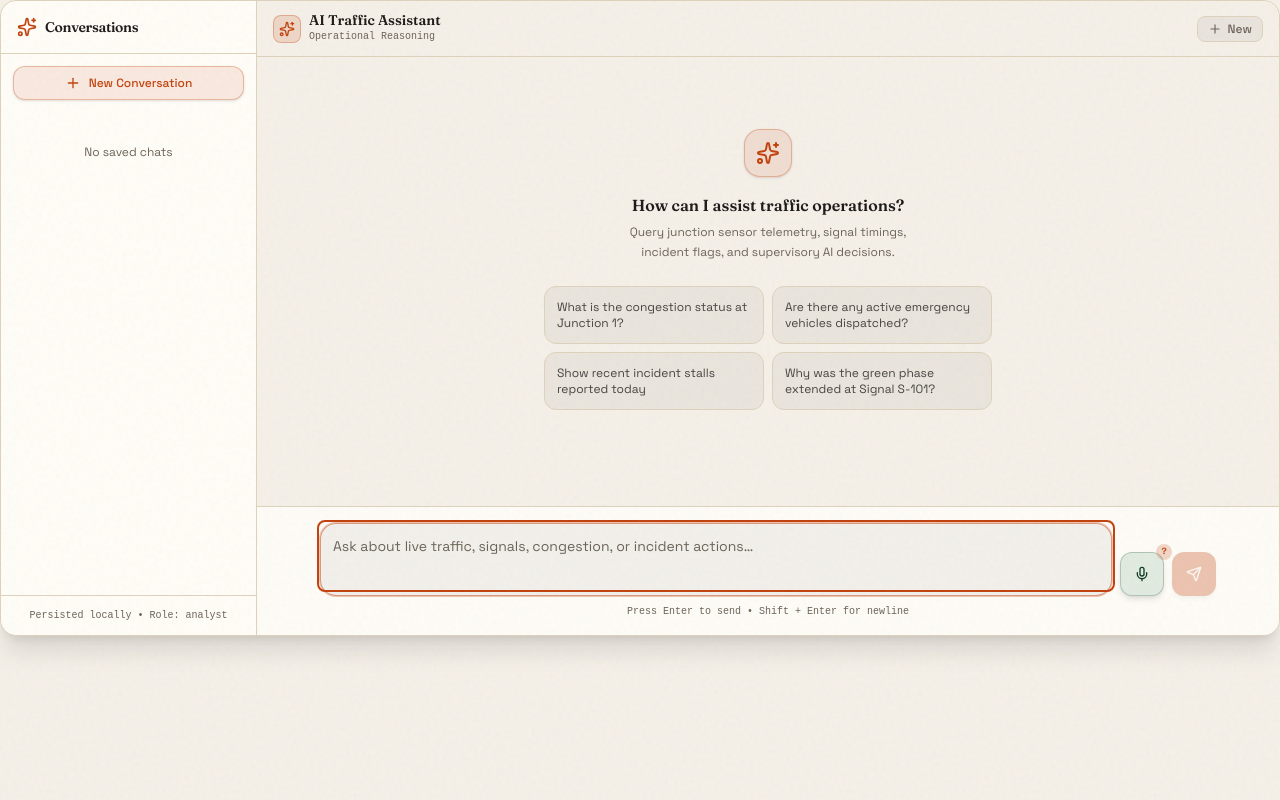
AssistantChat Component (assistant.test.tsx) › handles 500 error state and allows user to retry
Replace the text in the text box with test id "assistant-composer-textarea" with "Check volume" at (716, 556), box [321, 524, 1111, 588]
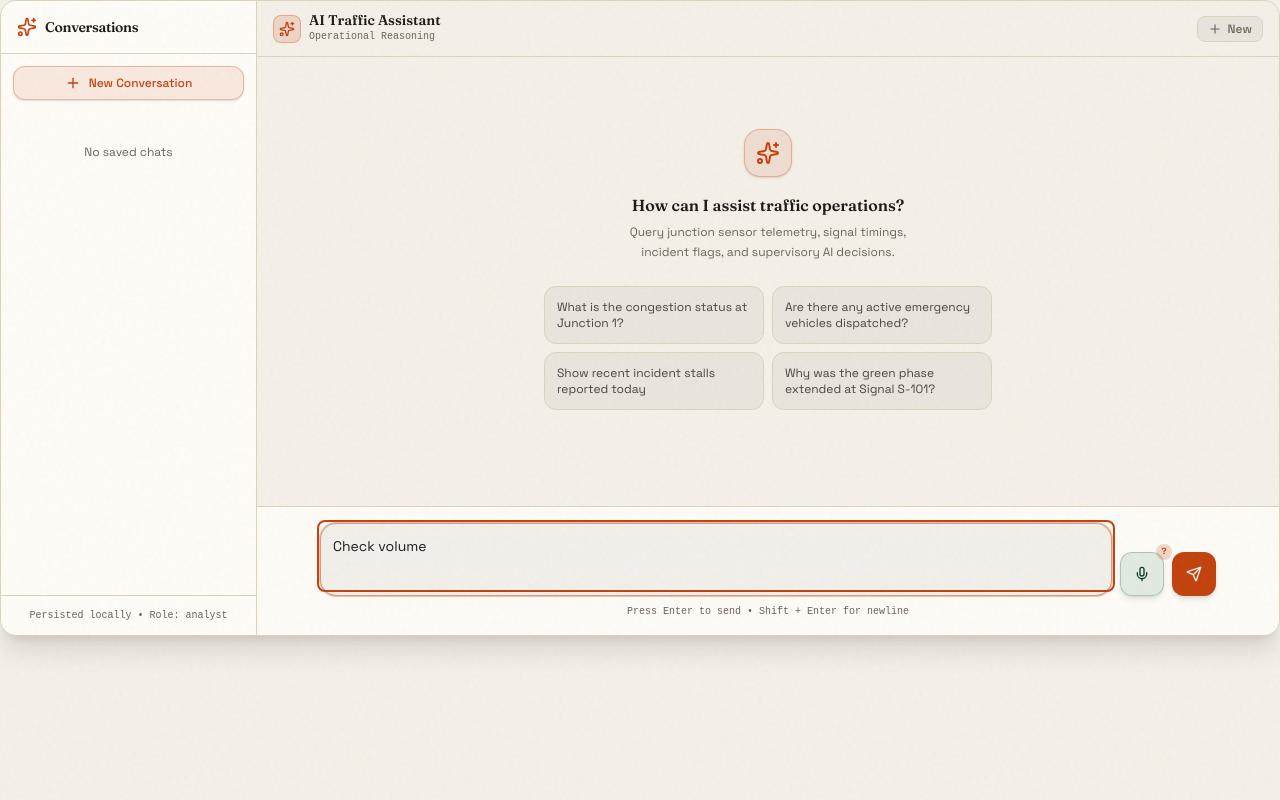
Click the button with test id "assistant-send-button".
click(1194, 574)  # box [1172, 552, 1216, 596]
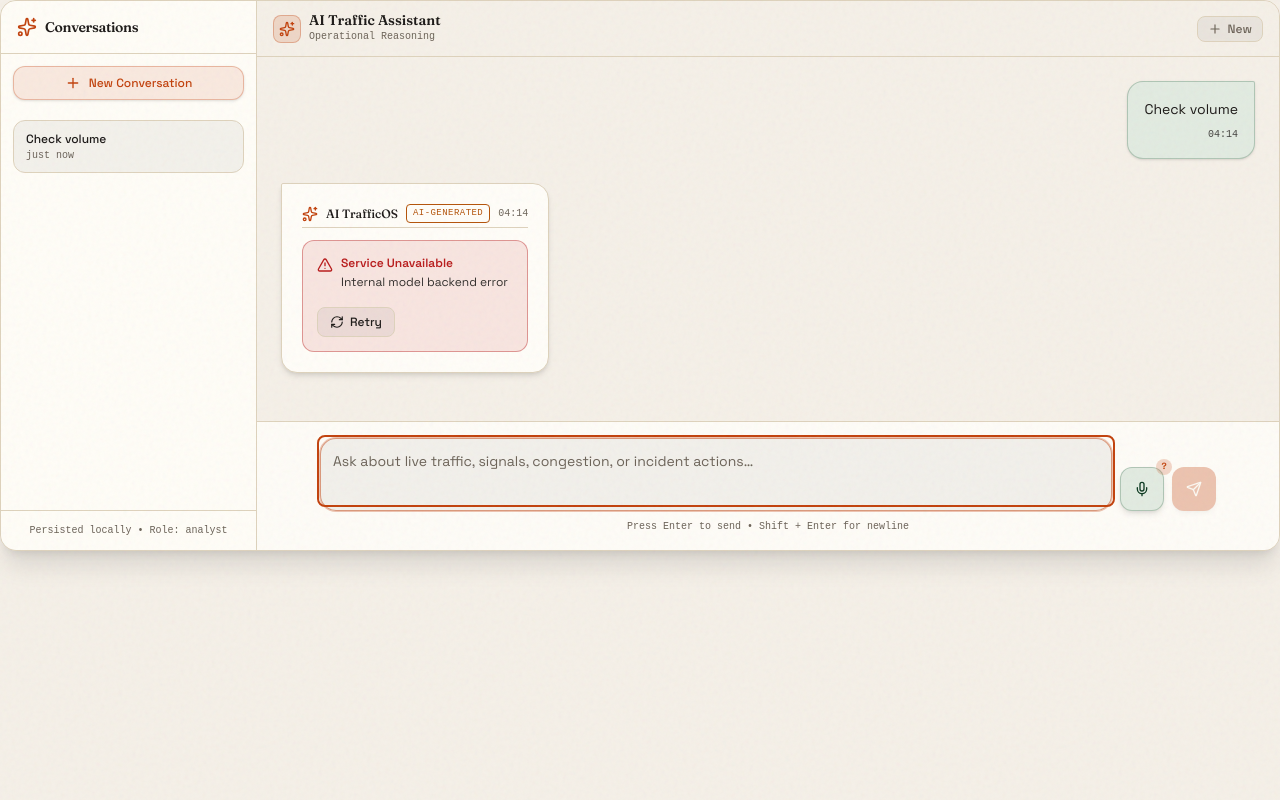
Expected: the text "Service Unavailable" is shown, [341, 255, 453, 271]
Expected: the button with test id "error-retry-button" is shown
Click retry
Click the button with test id "error-retry-button".
click(356, 322)  # box [317, 307, 395, 337]
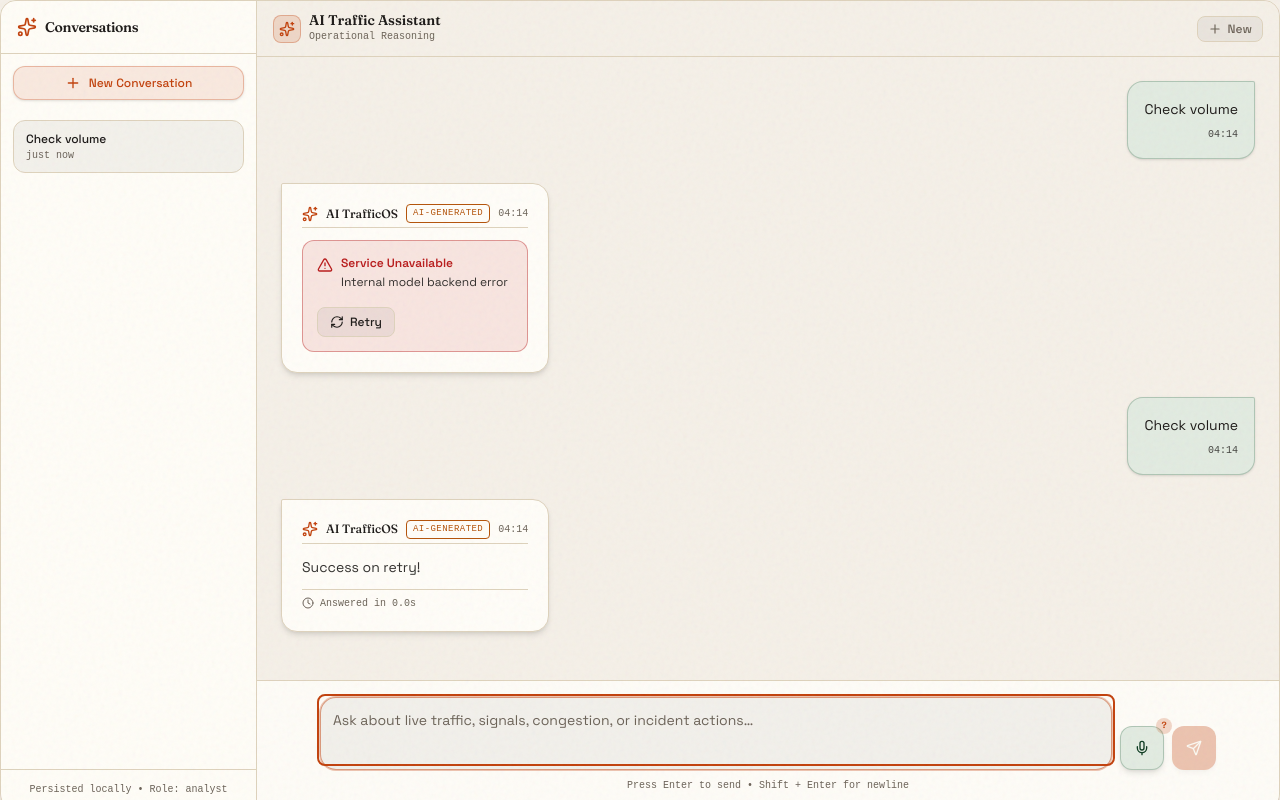
Expected: the text "Success on retry!" is shown, [302, 558, 420, 576]
